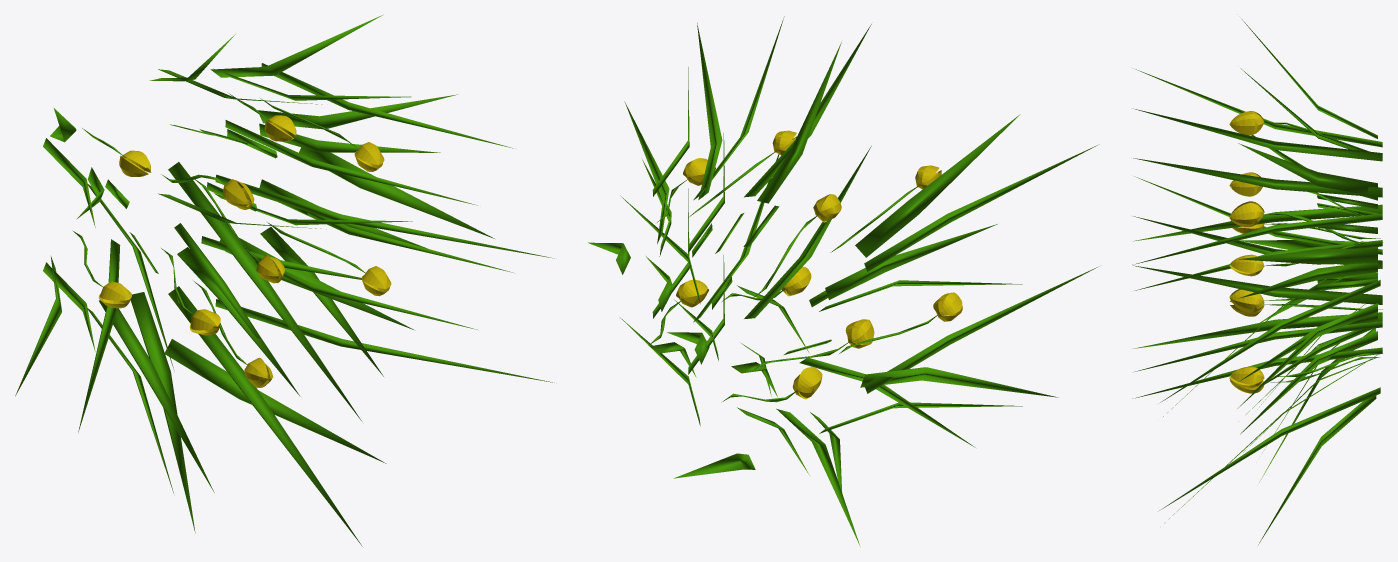
File: tulip.obj
3 views of the same model, side by side, from view 1: azimuth 30°, elevation 25°; view 2: azimuth 150°, elevation 25°; view 3: azimuth 270°, elevation 25° (orthographic). The views are drawn at different scales.
Parts seen in each view (by area): view 1: Cylinder.000, Cylinder.005_Cylinder.006; view 2: Cylinder.000, Cylinder.005_Cylinder.006; view 3: Cylinder.000, Cylinder.005_Cylinder.006.
Part boxes in pixels (<box>): Cylinder.000: <box>15,14,554,546</box>; Cylinder.005_Cylinder.006: <box>98,115,391,387</box>; Cylinder.000: <box>588,16,1099,546</box>; Cylinder.005_Cylinder.006: <box>676,130,962,399</box>; Cylinder.000: <box>1132,19,1382,544</box>; Cylinder.005_Cylinder.006: <box>1229,111,1264,393</box>.
Size of the model in its own units: 5.99 by 5.79 by 3.06.
